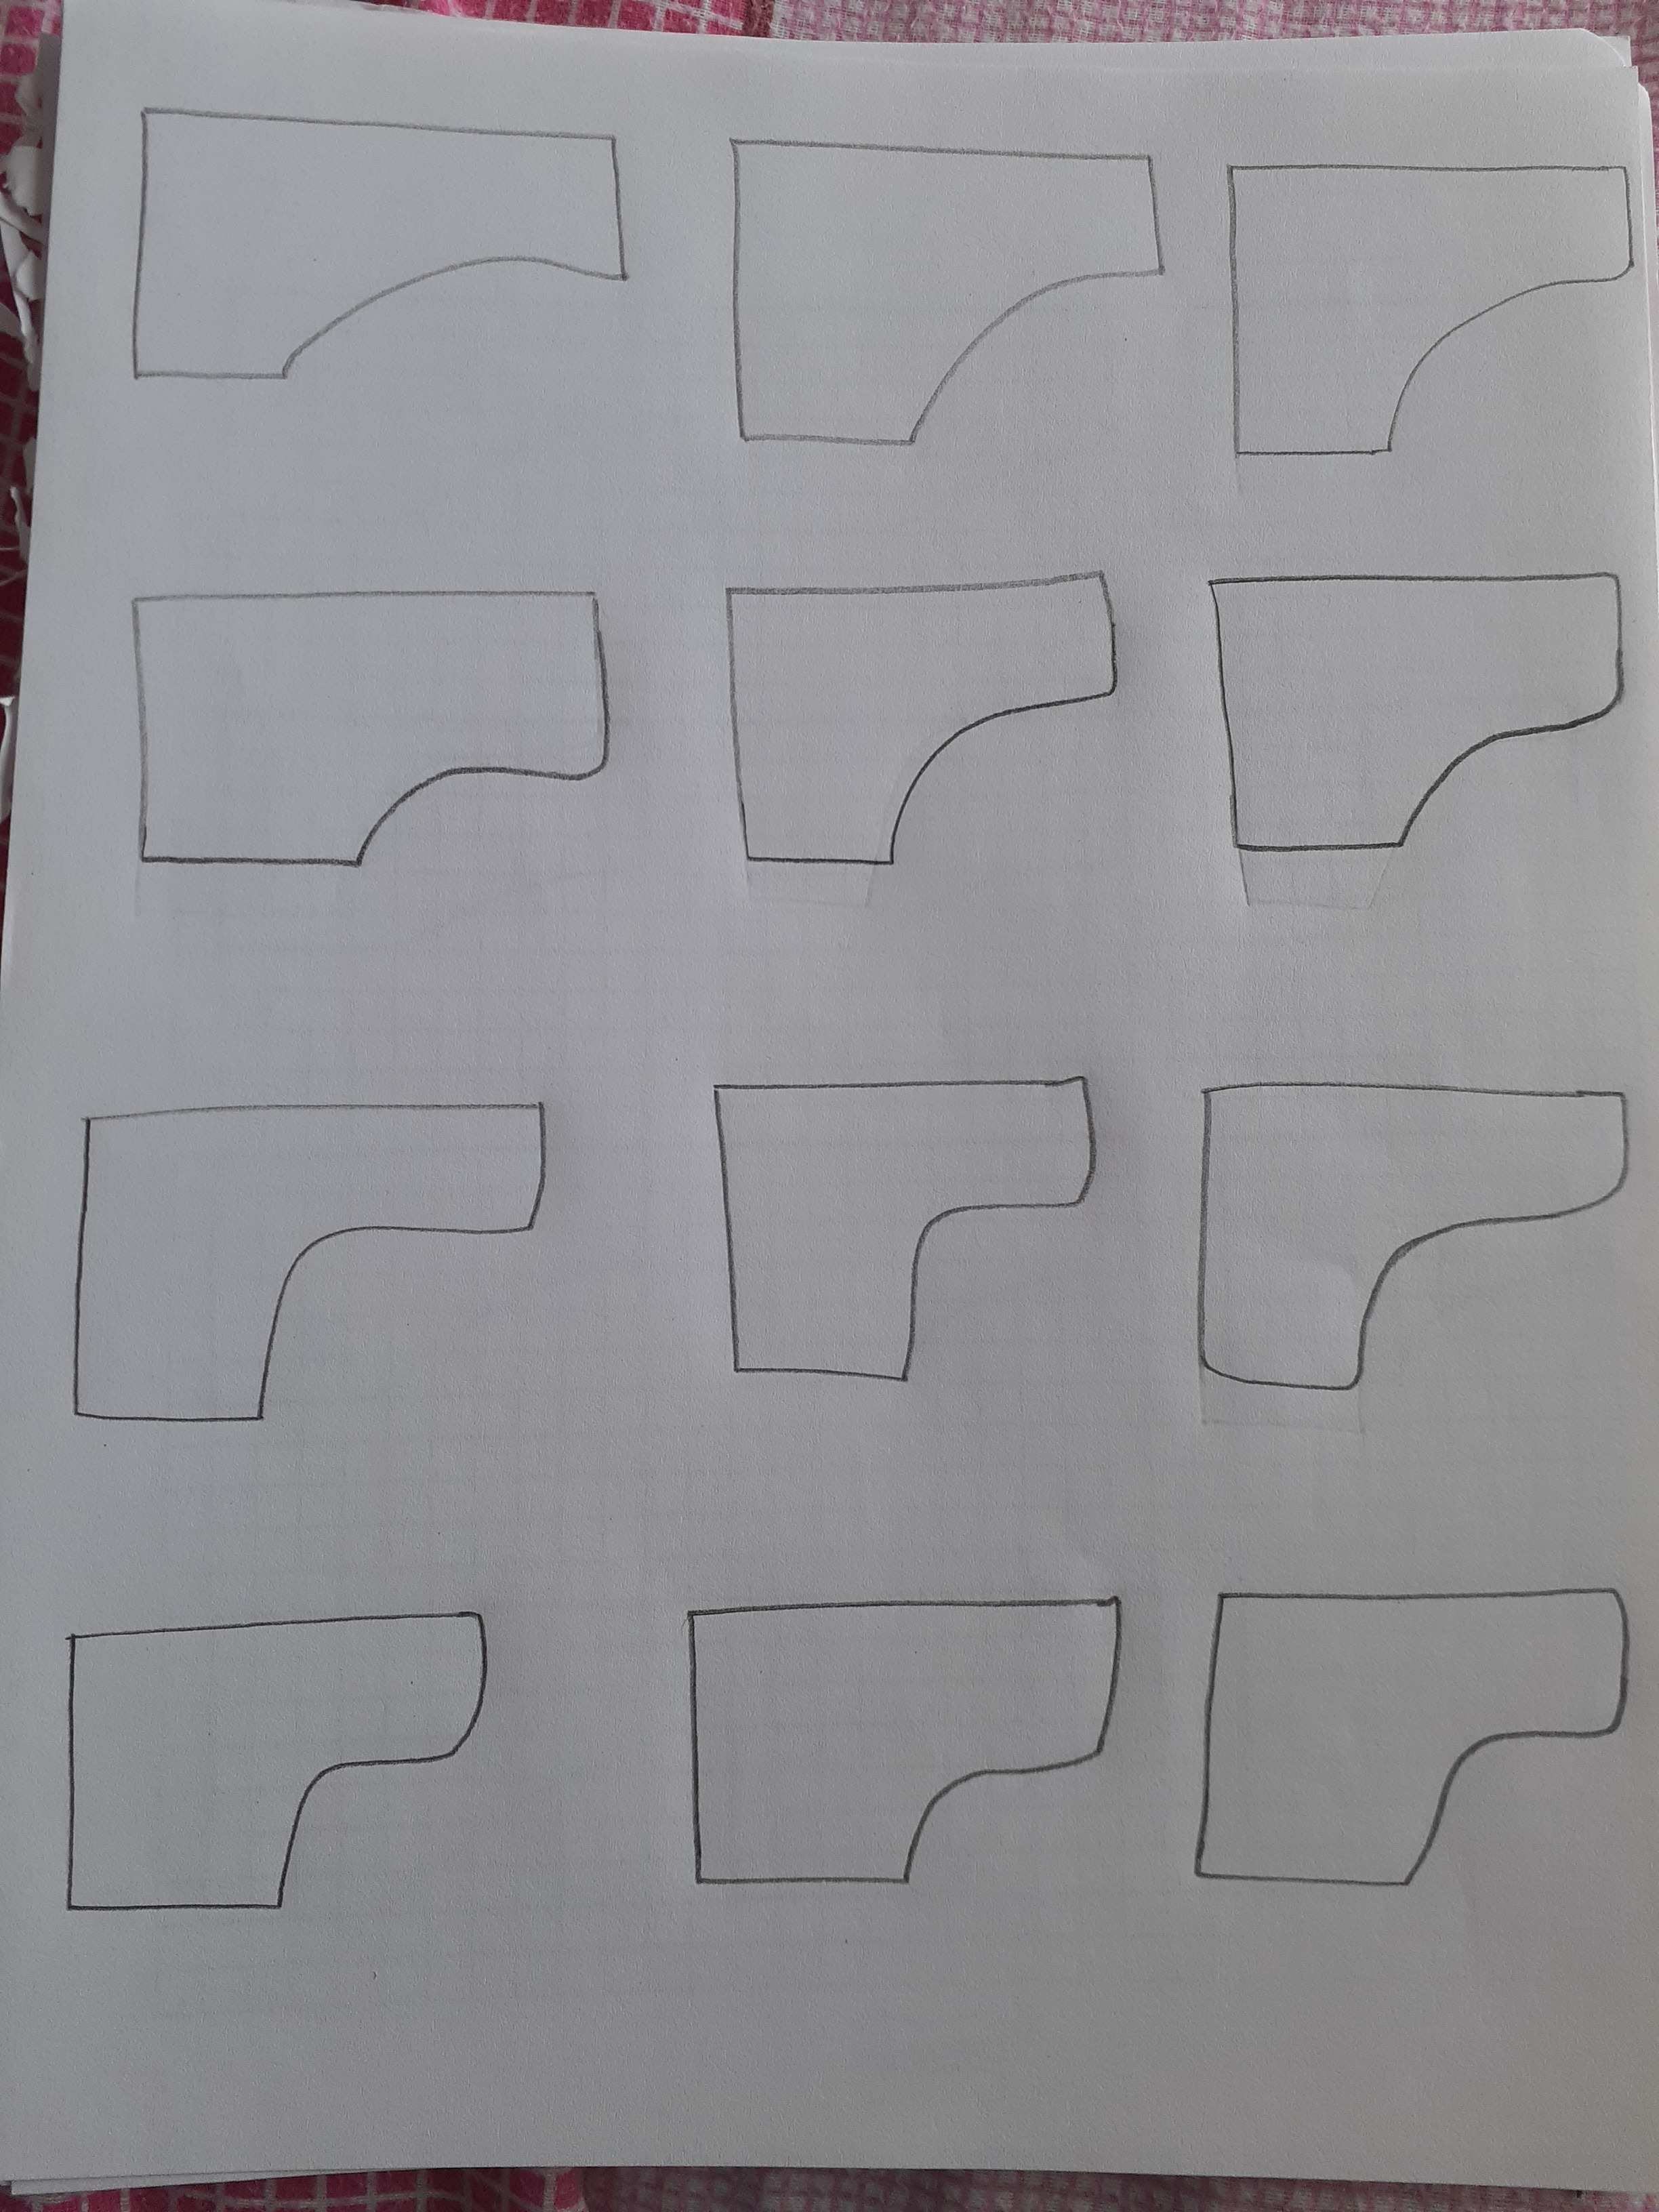print: (52, 1082, 601, 1451), (89, 564, 634, 923), (713, 103, 1183, 472), (122, 85, 645, 411), (1187, 1049, 1642, 1411), (58, 1583, 519, 1937), (1183, 1571, 1647, 1912), (666, 1580, 1143, 1909), (699, 1045, 1105, 1411), (1220, 141, 1642, 489), (1197, 561, 1638, 888), (706, 557, 1136, 880)
